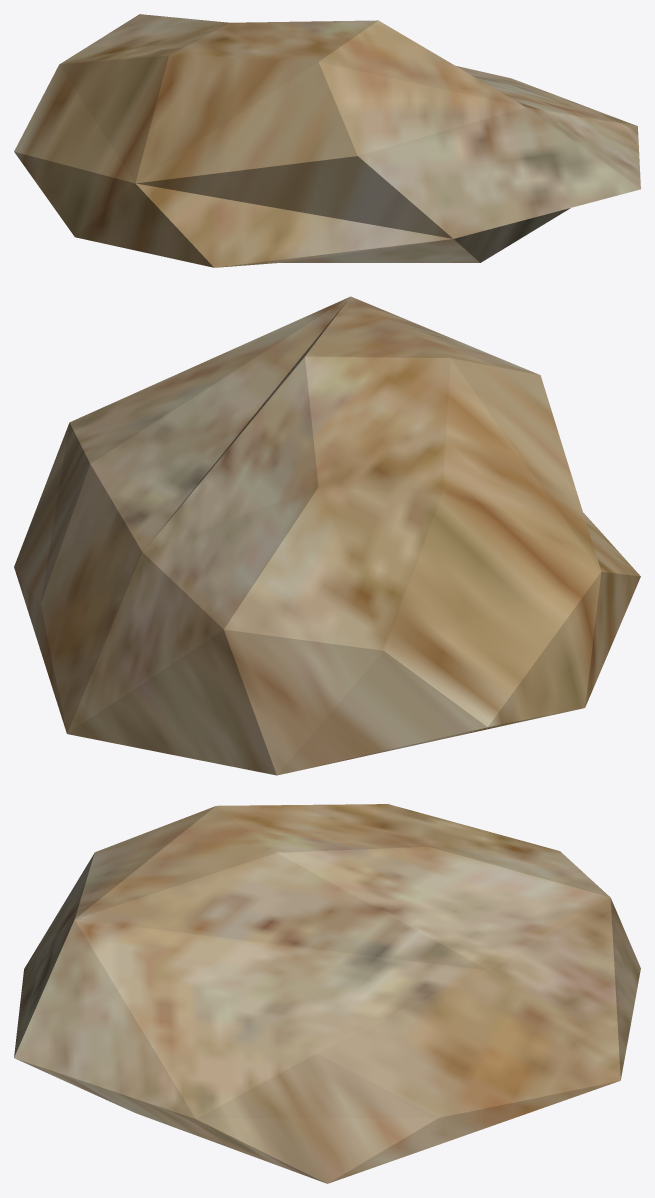
Rendered from C2SNROKC.obj.
3 views of the same model, one above another, from view 1: azimuth 30°, elevation 25°; view 2: azimuth 150°, elevation 25°; view 3: azimuth 270°, elevation 25° (orthographic). The views are drawn at different scales.
Parts seen in each view (by area): view 1: Node 0; view 2: Node 0; view 3: Node 0.
Boxes of the visible parts, x1,y1,x2,y2 form: Node 0: (14,14,640,267); Node 0: (14,296,640,775); Node 0: (14,804,640,1183).
Bounding box in the file's own units: 0.61 × 0.27 × 0.62.
Materials: 1 (1 with a texture image).
